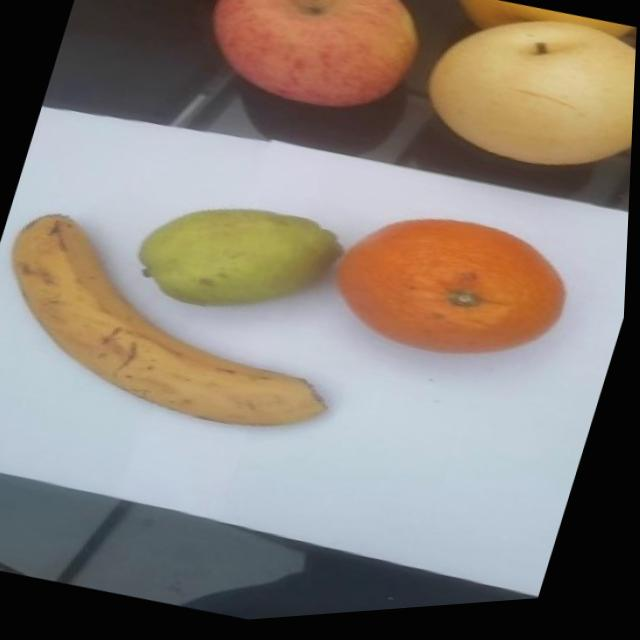Apple: (189, 0, 437, 141)
Banana: (0, 188, 373, 469)
Orange: (320, 194, 587, 397)
